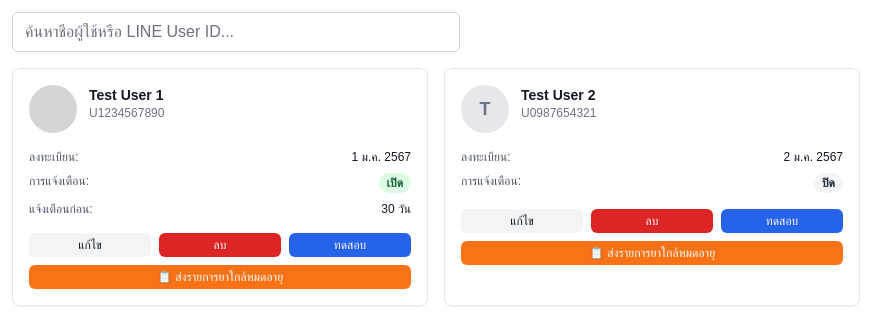
LineUserList › Search Functionality (Requirement 3.4) › should filter users by LINE User ID
Type "U0987654321" into the field with placeholder "ค้นหาชื่อผู้ใช้หรือ LINE User ID...".
click(236, 32); type("U0987654321")  # box [12,12,460,52]
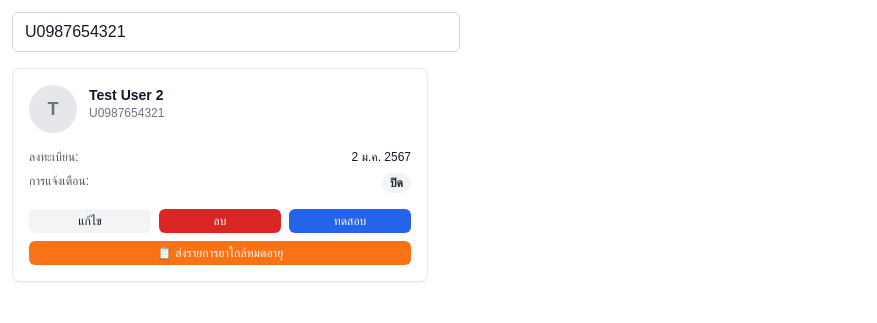
Expected: the heading "Test User 2" is shown, [89,87,164,103]
Expected: the heading "Test User 1" is gone
